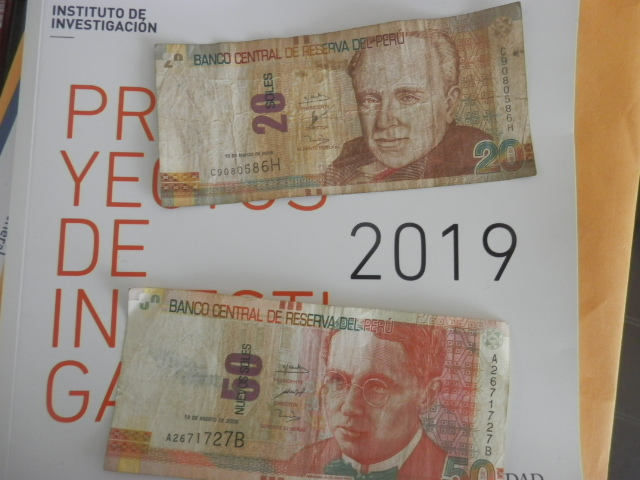B20: (138, 6, 545, 212)
B50: (104, 279, 514, 480)
